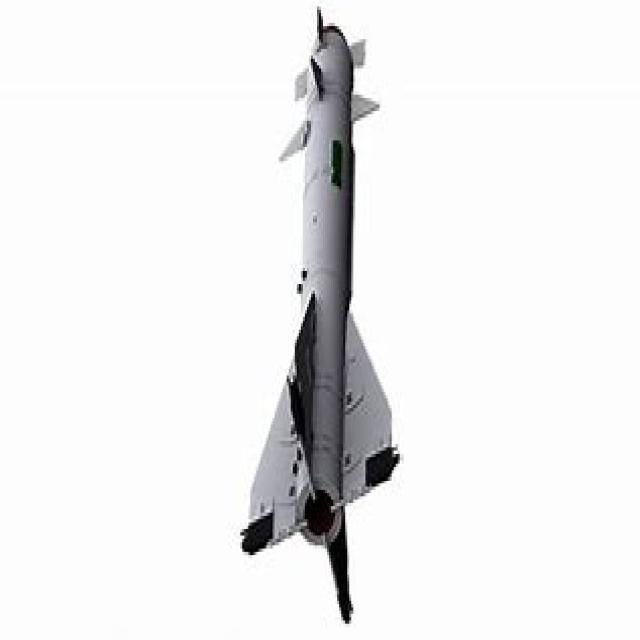missile: (266, 14, 392, 609)
